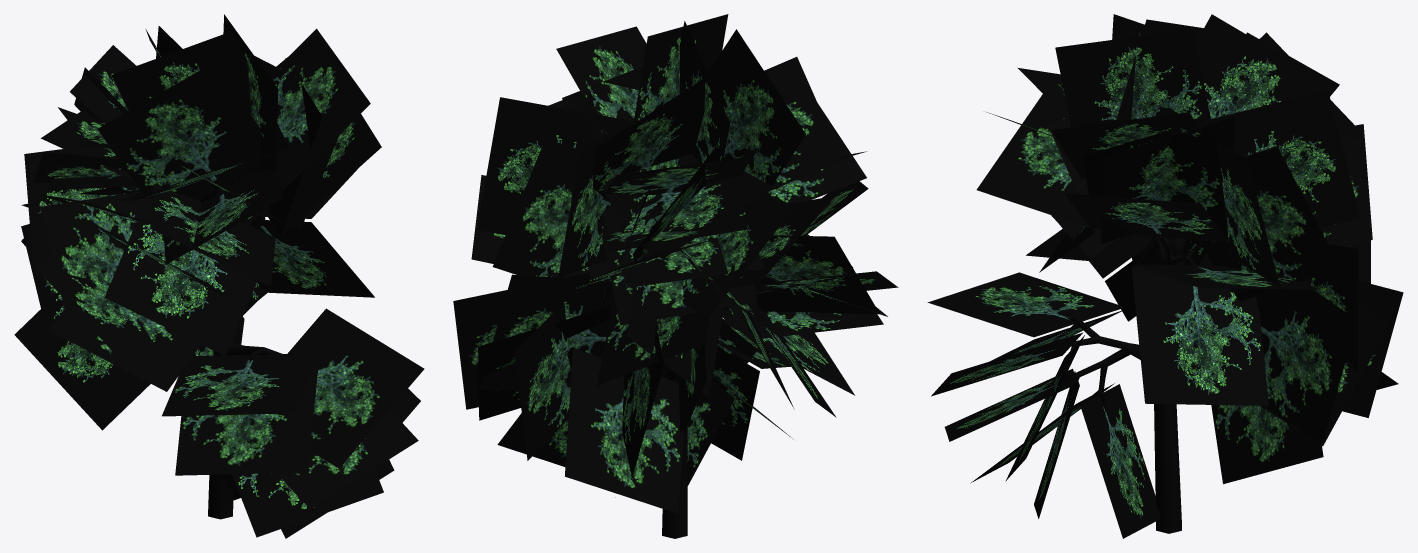
File: tree74.glb
3 renders of one model, left to right at view 1: azimuth 30°, elevation 25°; view 2: azimuth 150°, elevation 25°; view 3: azimuth 270°, elevation 25°, orthographic. The views are drawn at different scales.
Bounding box in the file's own units: 5.58 × 7.15 × 6.07.
2 materials, 1 textured.
